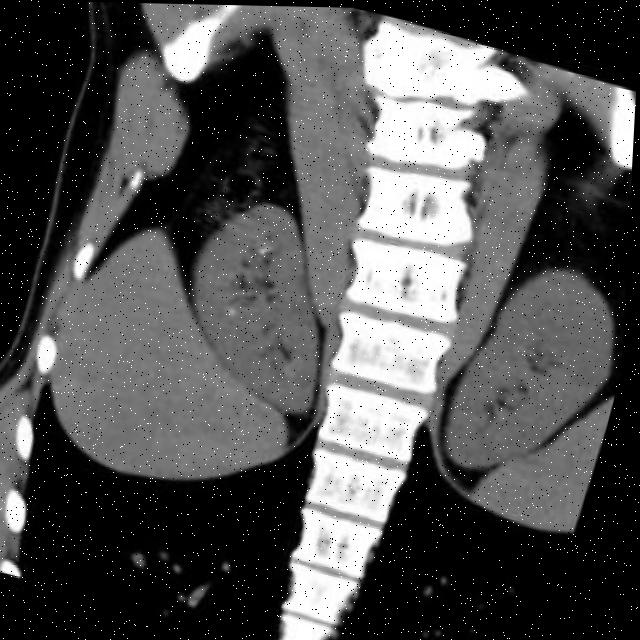Tas_Var: (258, 240, 274, 258), (227, 303, 239, 315)
